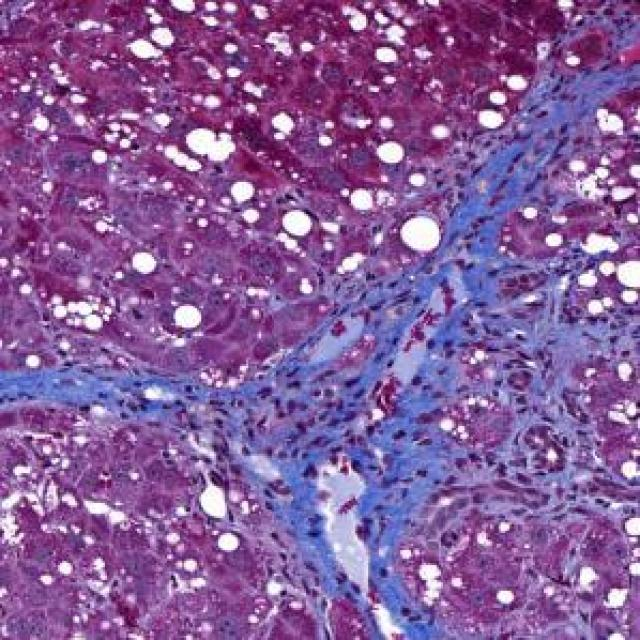fibrosis: (212, 344, 452, 572), (351, 231, 597, 424), (481, 415, 608, 542), (0, 356, 152, 416)
